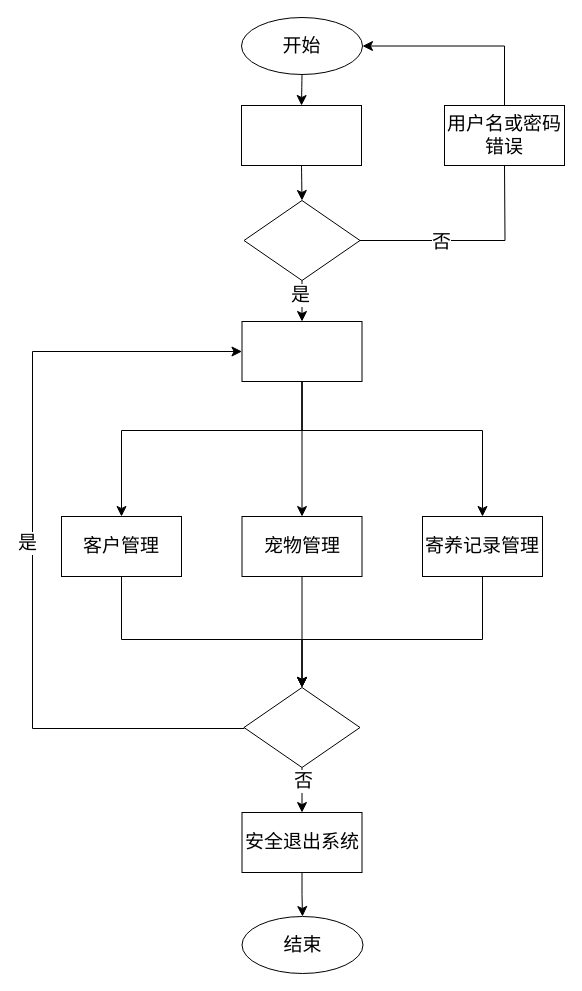
The diagram is 582 pixels wide and 991 high, and some of its shapes have lost their labels. Here are the shapes that lost their labels. From the top down, the centre of each, then its label:
At (301,135): "输入用户名和密码".
At (301,240): "验证".
At (301,351): "管理员主界面".
At (301,727): "是否继续操作".
